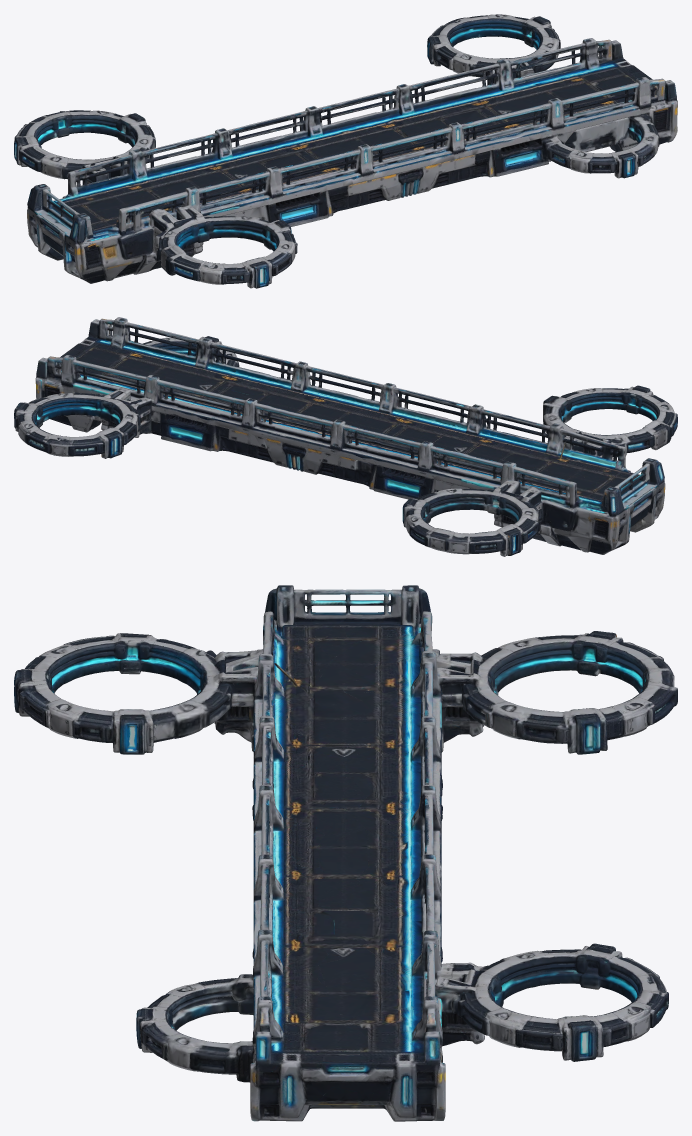
The model's file is catwalk.glb.
3 views of the same model, one above another, from view 1: azimuth 30°, elevation 25°; view 2: azimuth 150°, elevation 25°; view 3: azimuth 270°, elevation 25° (orthographic). The views are drawn at different scales.
Size of the model in its own units: 1.9 by 0.2414 by 1.17.
1 material, 1 textured.
